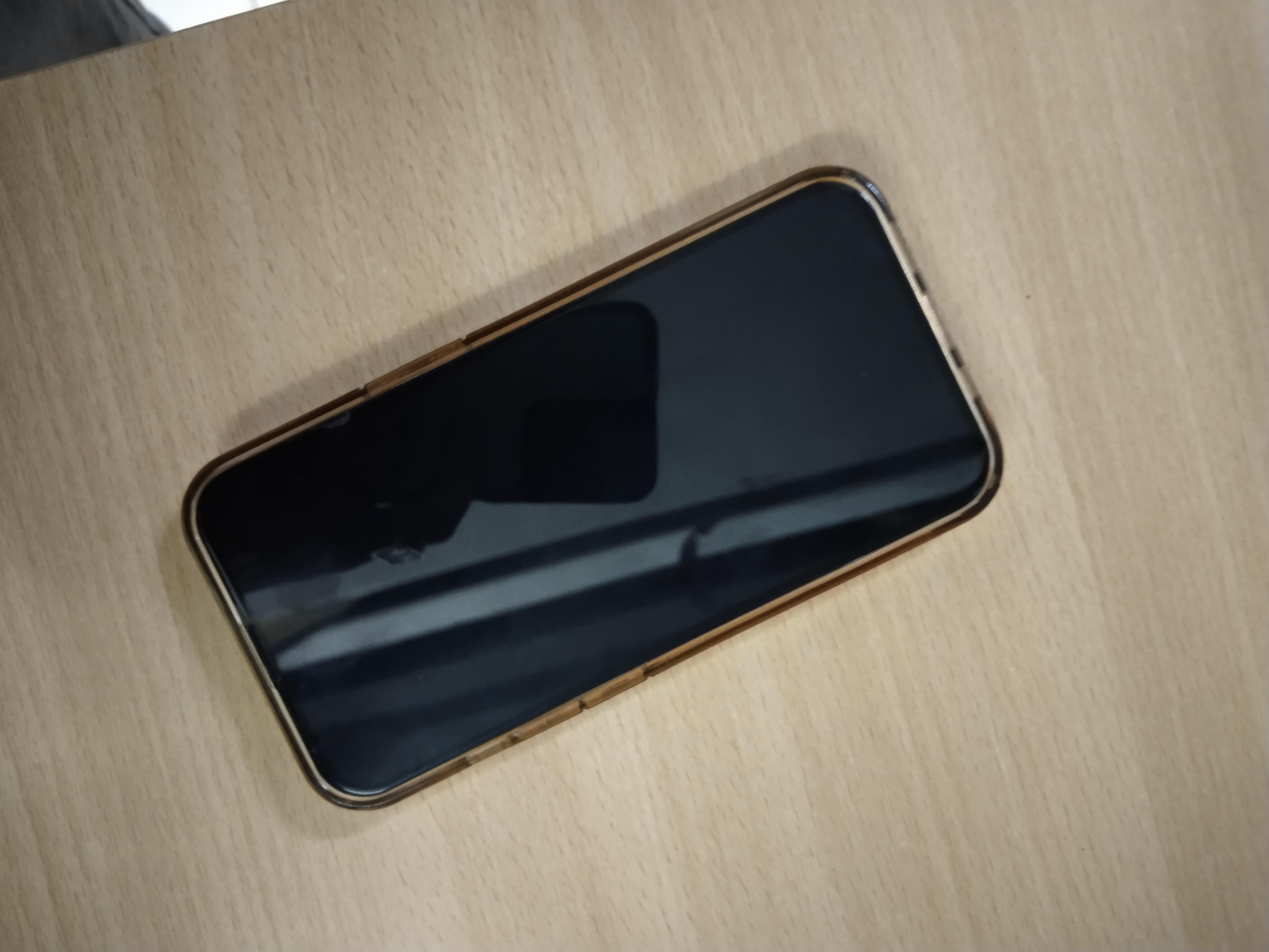phone good: (166, 136, 1109, 837)
